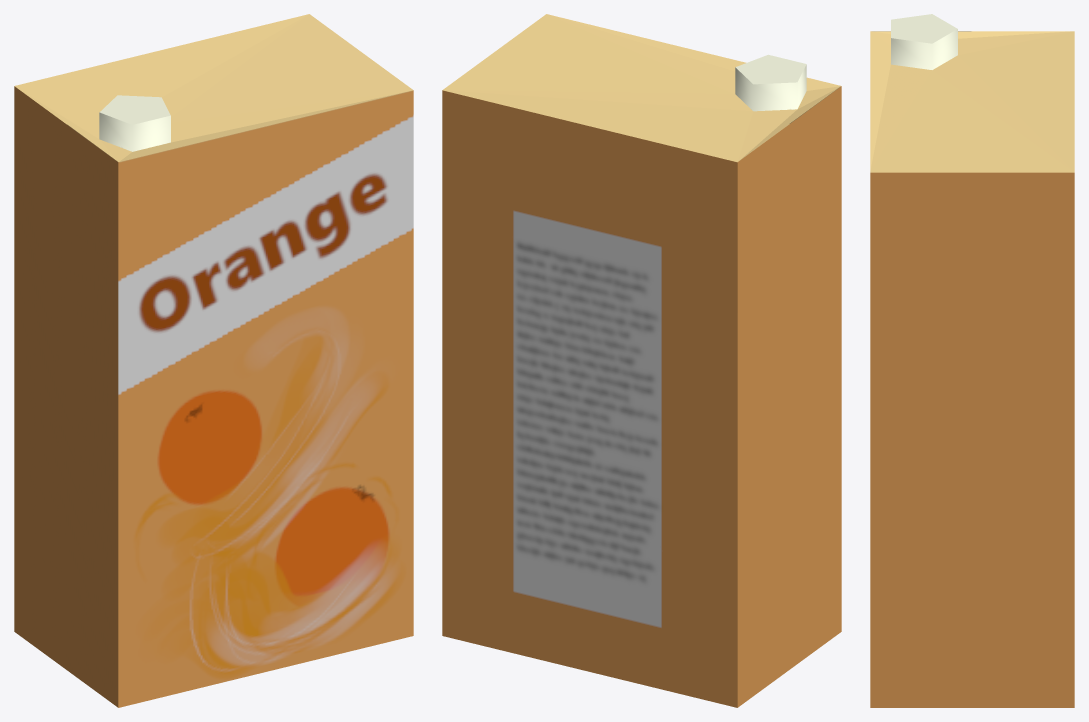
File: drink_carton_1.fbx
The picture shows the model from 3 angles, left to right: view 1: azimuth 30°, elevation 25°; view 2: azimuth 150°, elevation 25°; view 3: azimuth 270°, elevation 25°; orthographic projection.
Parts seen in each view (by area): view 1: Cylinder; view 2: Cylinder; view 3: Cylinder.
Boxes of the visible parts, bbox=[...] form: Cylinder: bbox=[14, 14, 413, 707]; Cylinder: bbox=[442, 14, 841, 707]; Cylinder: bbox=[870, 14, 1074, 707].
Bounding box in the file's own units: 26.69 × 49.17 × 16.32.
1 material, 1 textured.
